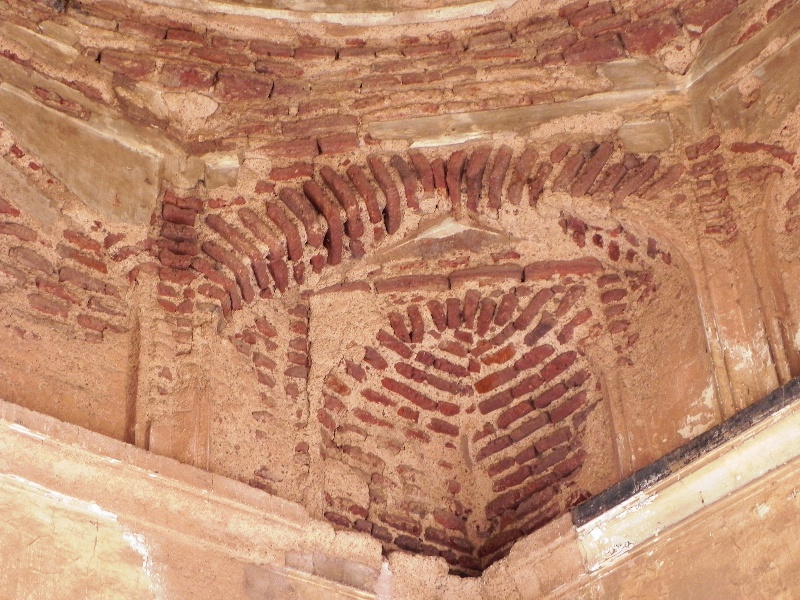Exposed Bricks: (121, 18, 747, 480)
